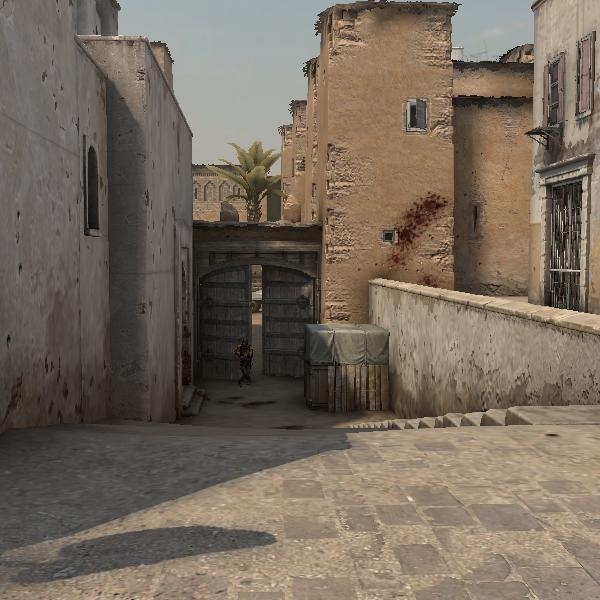t_body: (235, 337, 256, 388)
t_head: (240, 337, 249, 349)
